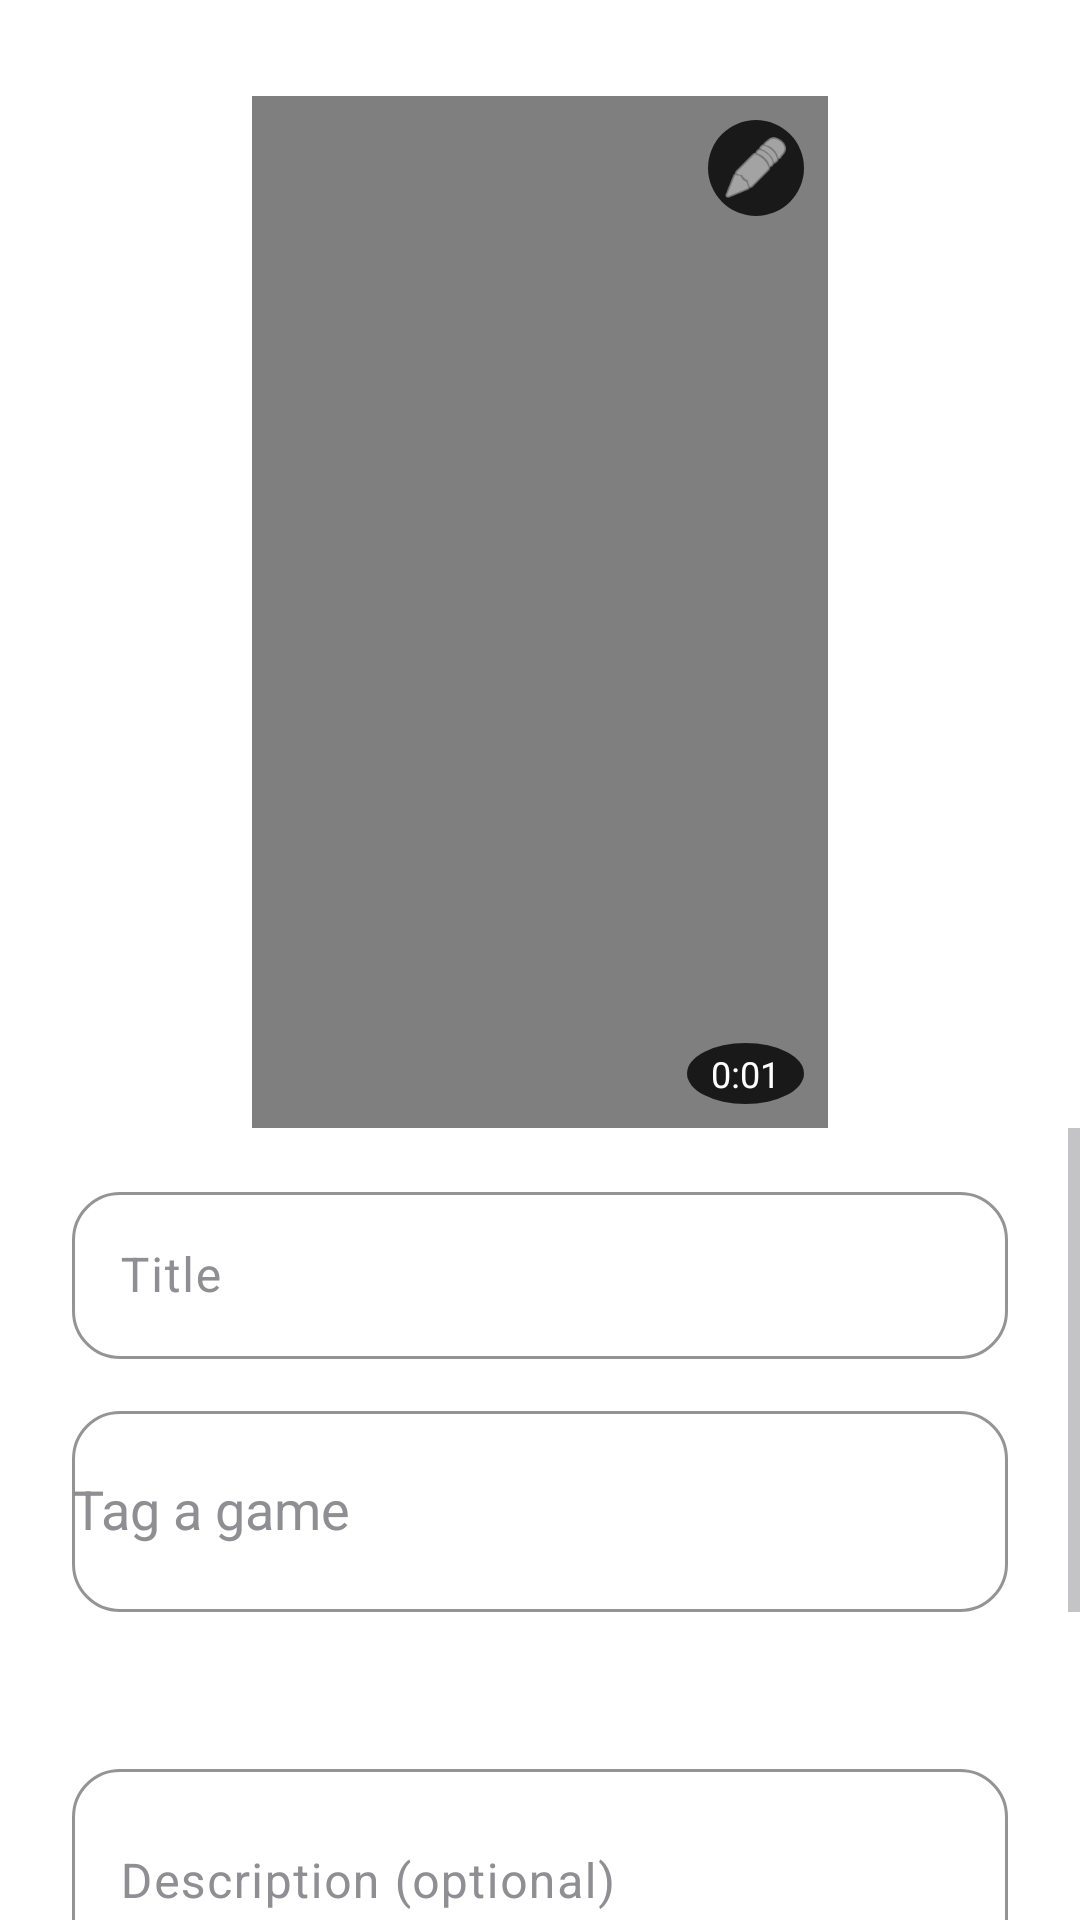

Screen size 1080 x 1920. Icon name, then its box in pixels as box(x1, y1, x2, y2):
edit: box(708, 120, 804, 216)
